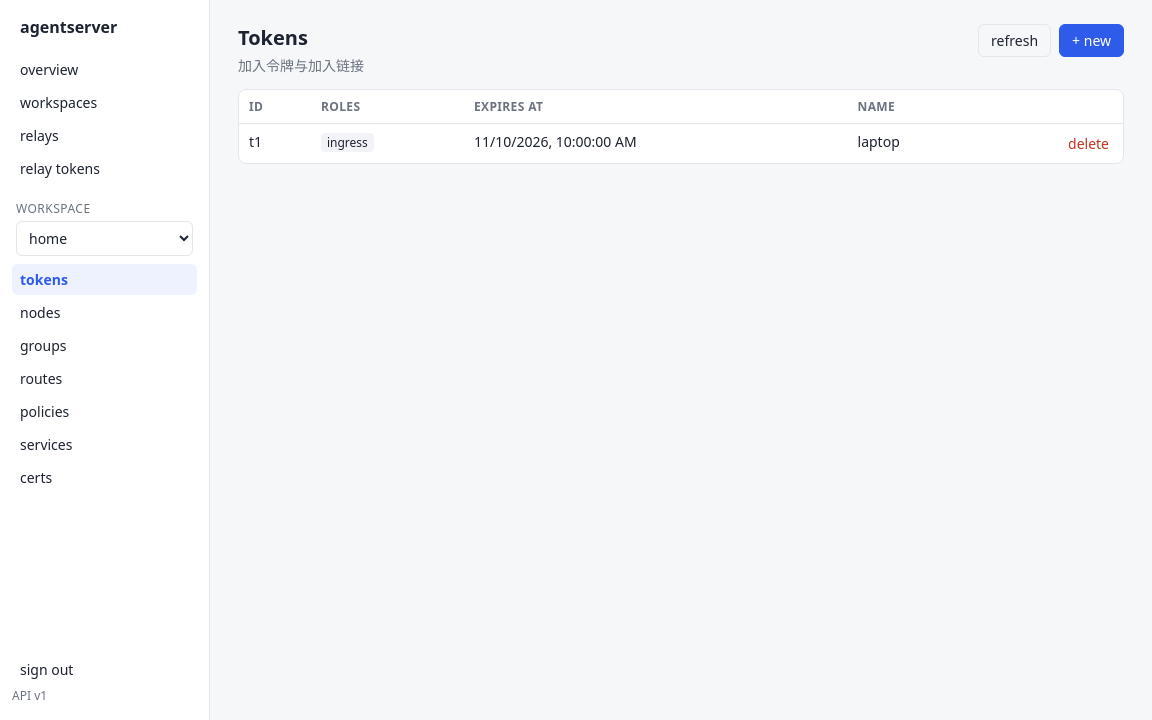
Test case: console › creates a join token from the generated form and shows the link once
Expected: the text "t1" is shown, [249,132,262,151]
Click the button "+ new" at (1092, 40), box [1059,24,1124,57]
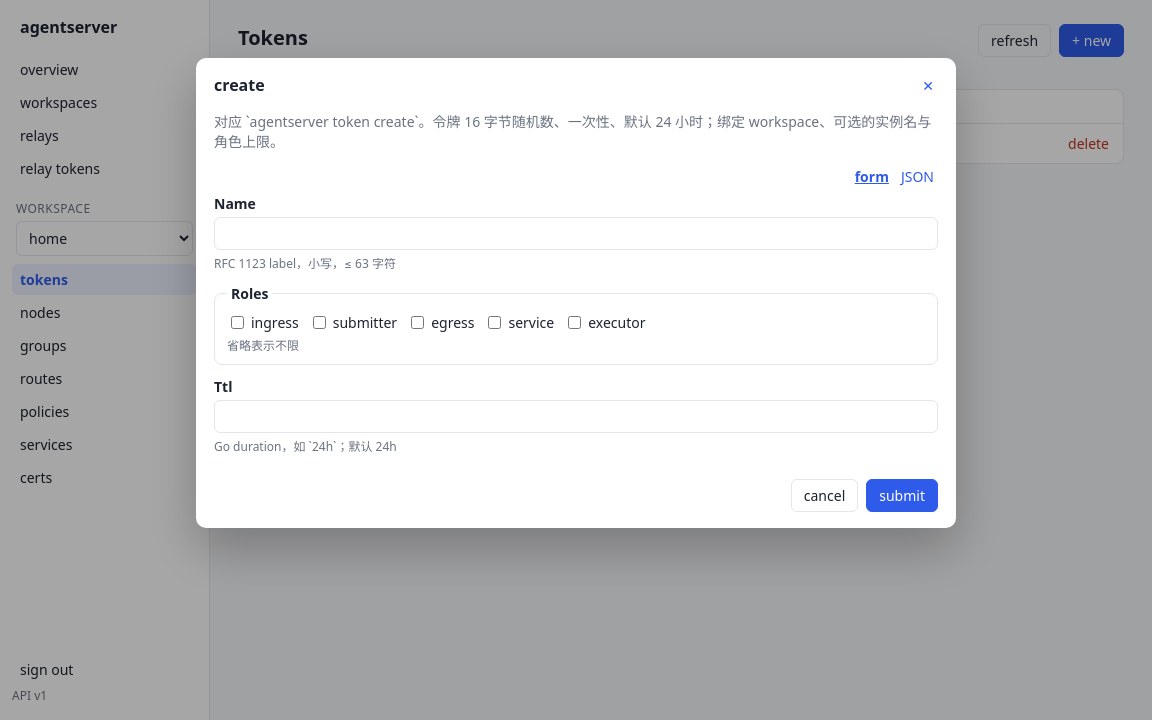
Type "dorm" into the field labelled "name RFC 1123 label，小写，≤ 63 字符" at (576, 233), box [214,217,938,250]
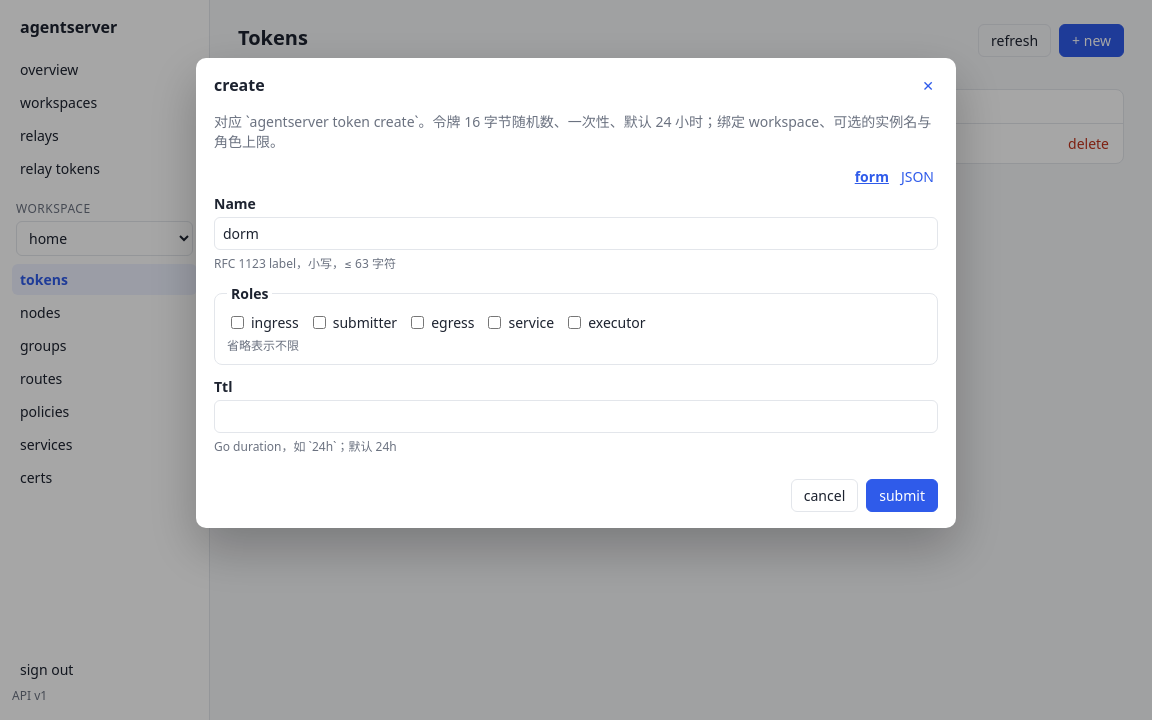
Click the button "submit" at (902, 495), box [866,479,938,512]
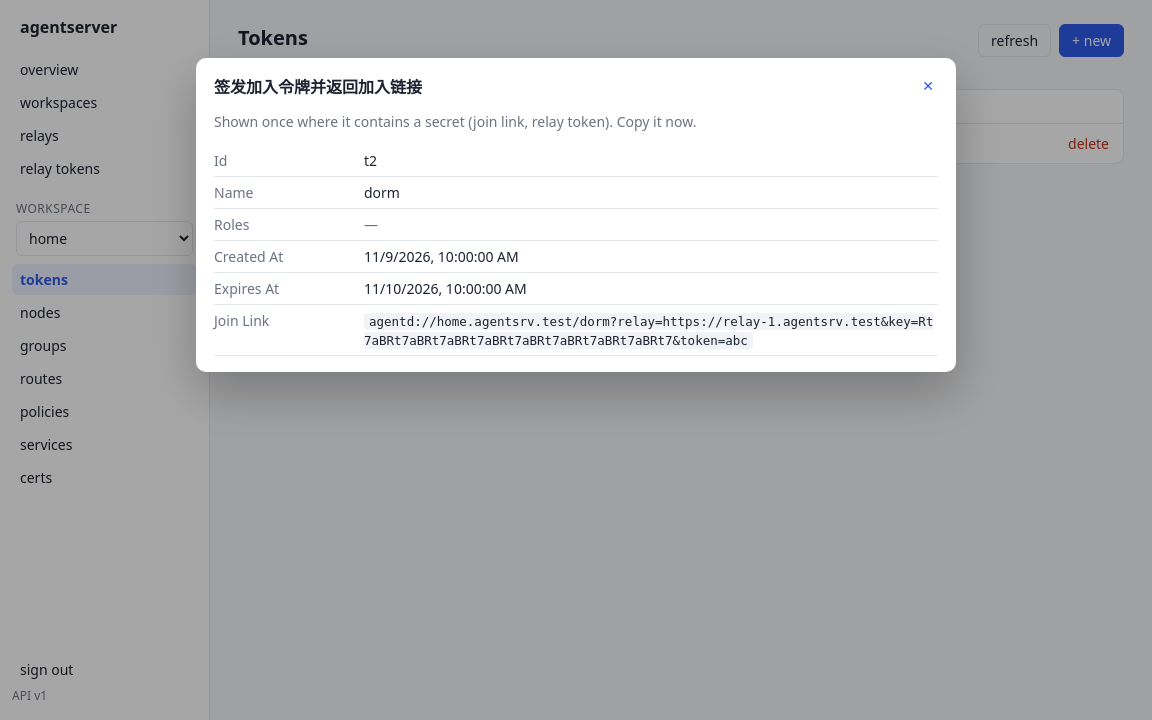
Expected: the text "agentd://home.agentsrv.test/dorm" is shown, [364,314,933,348]
